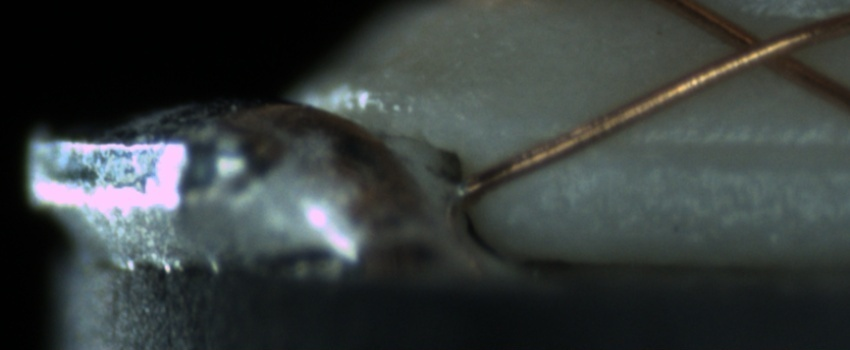CL: (707, 15, 816, 80)
DL: (561, 114, 841, 181)
